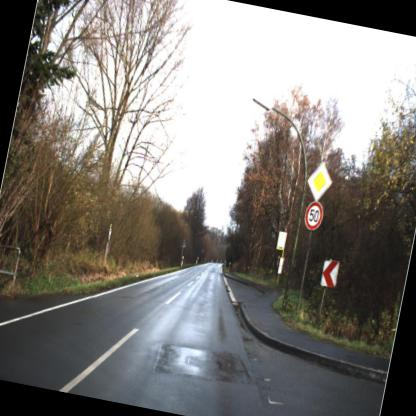other: (300, 154, 339, 206)
prohibitory: (298, 198, 327, 236)
